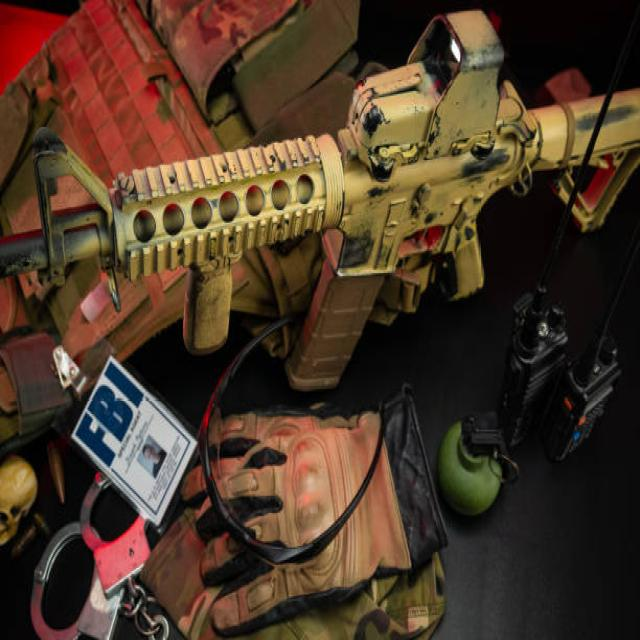grenade: (439, 412, 525, 526)
